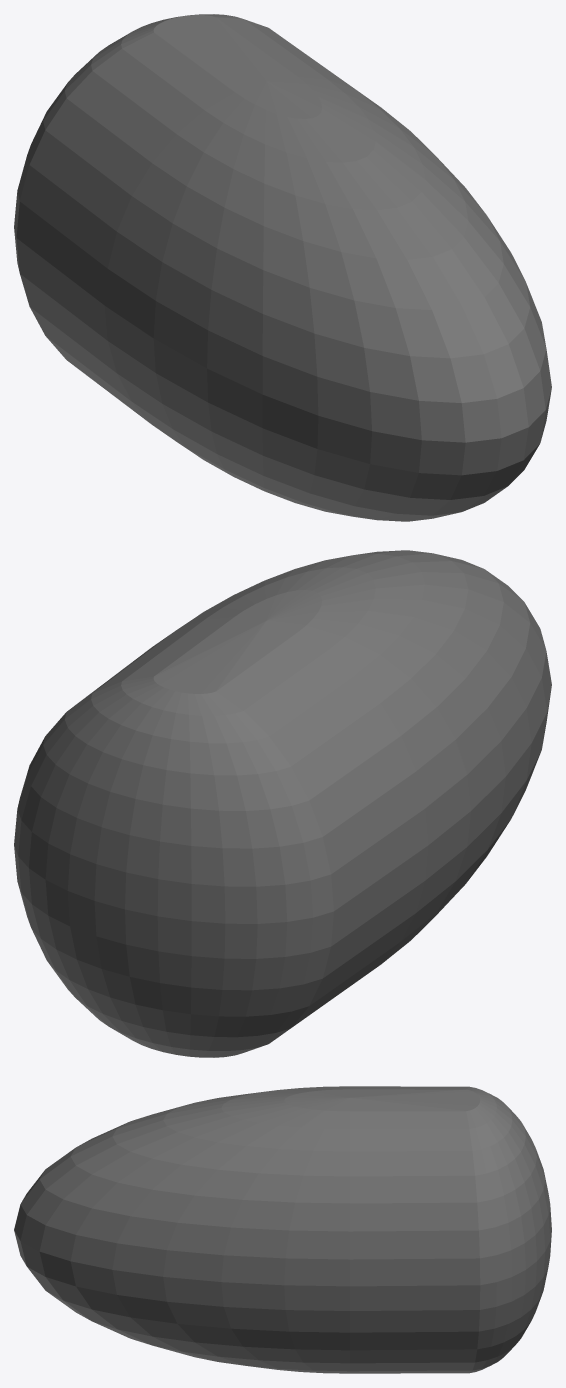
File: bullet.gltf
3 renders of one model, top to bottom at view 1: azimuth 30°, elevation 25°; view 2: azimuth 150°, elevation 25°; view 3: azimuth 270°, elevation 25°, orthographic. The views are drawn at different scales.
Parts seen in each view (by area): view 1: 球; view 2: 球; view 3: 球.
Part boxes in pixels (x1,y1,x2,y2): 球: (14, 14, 551, 521); 球: (14, 550, 551, 1057); 球: (14, 1086, 551, 1373).
Size of the model in its own units: 0.4729 by 0.5168 by 0.9533.
Materials: 1 (1 with a texture image).
